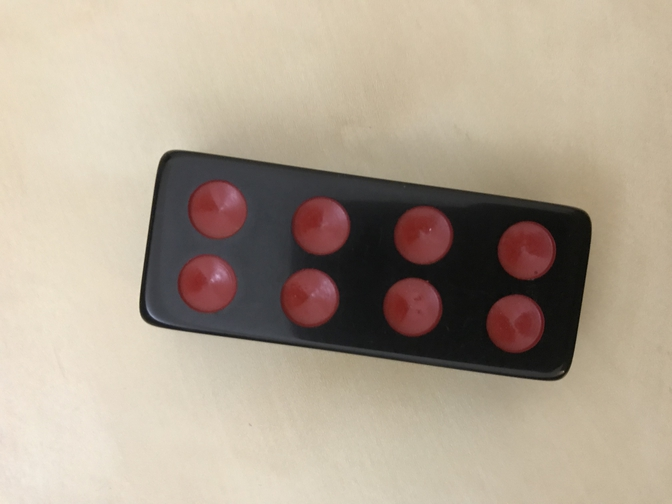man: (140, 149, 593, 383)
